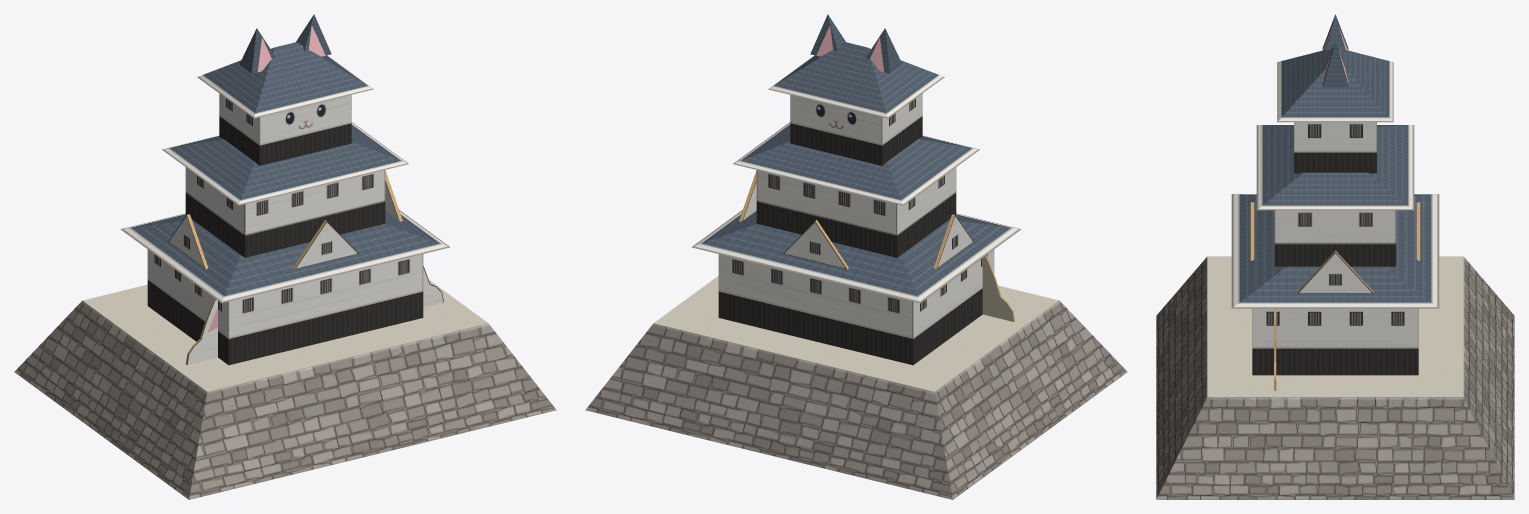
File: nyanisyarud-city-kit.glb
3 renders of one model, left to right at view 1: azimuth 30°, elevation 25°; view 2: azimuth 150°, elevation 25°; view 3: azimuth 270°, elevation 25°, orthographic. The views are drawn at different scales.
Visible parts, largest first — view 1: castle, station; view 2: castle, station; view 3: castle.
Part boxes in pixels (box(x1,y1,x2,y2)): castle: box(14, 14, 556, 499); station: box(186, 266, 443, 364); castle: box(585, 14, 1127, 499); station: box(982, 255, 1014, 321); castle: box(1156, 14, 1514, 499).
Bounding box in the file's own units: 44.2 × 42.52 × 36.4.
Materials: 1 (1 with a texture image).
